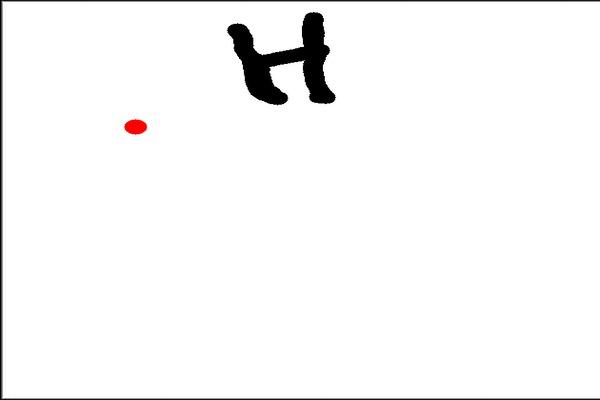H: (221, 6, 343, 113)
